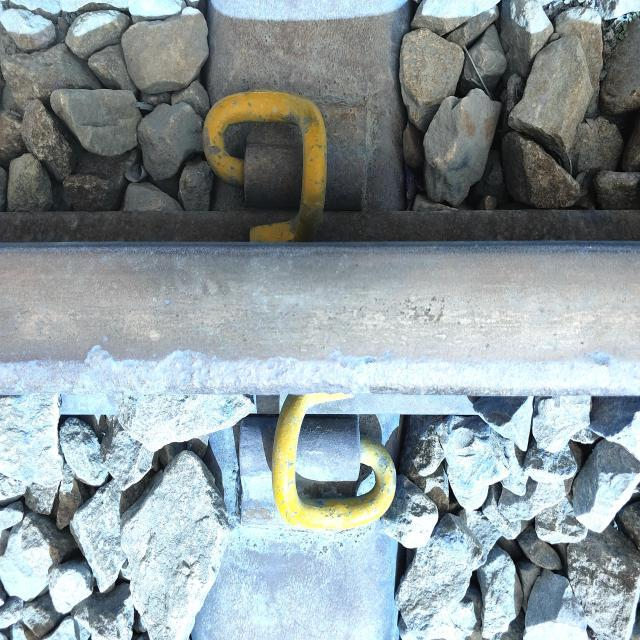Good Fasteners: (185, 79, 388, 256), (210, 393, 416, 558)
